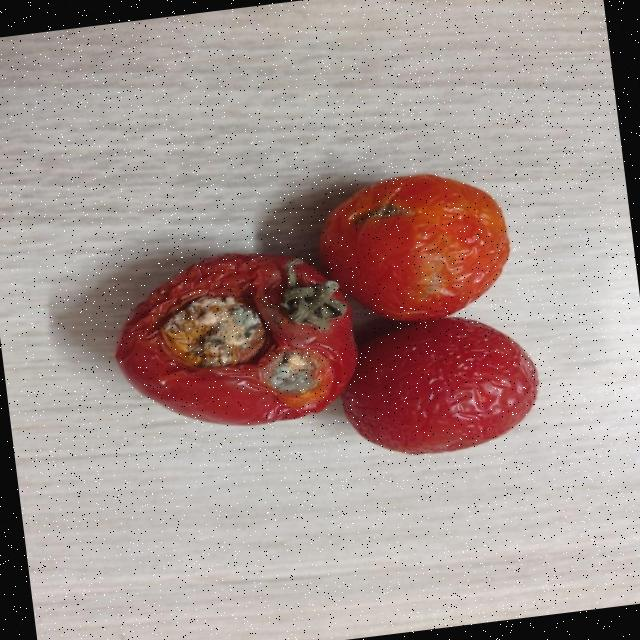Rotten: (105, 242, 368, 444)
